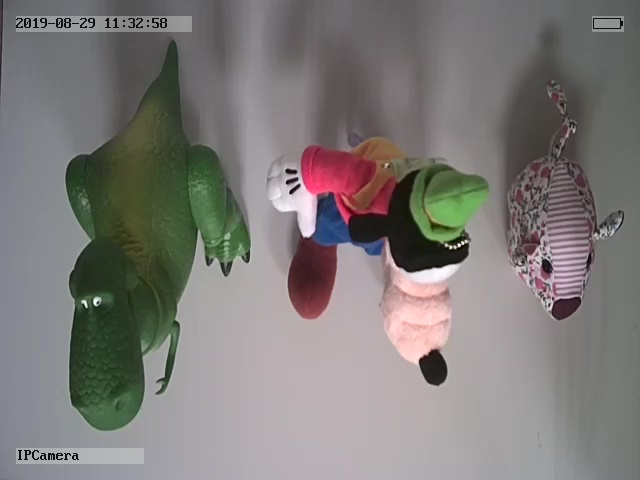goofy: (266, 136, 490, 389)
pig: (505, 78, 625, 321)
rex: (63, 37, 254, 431)
